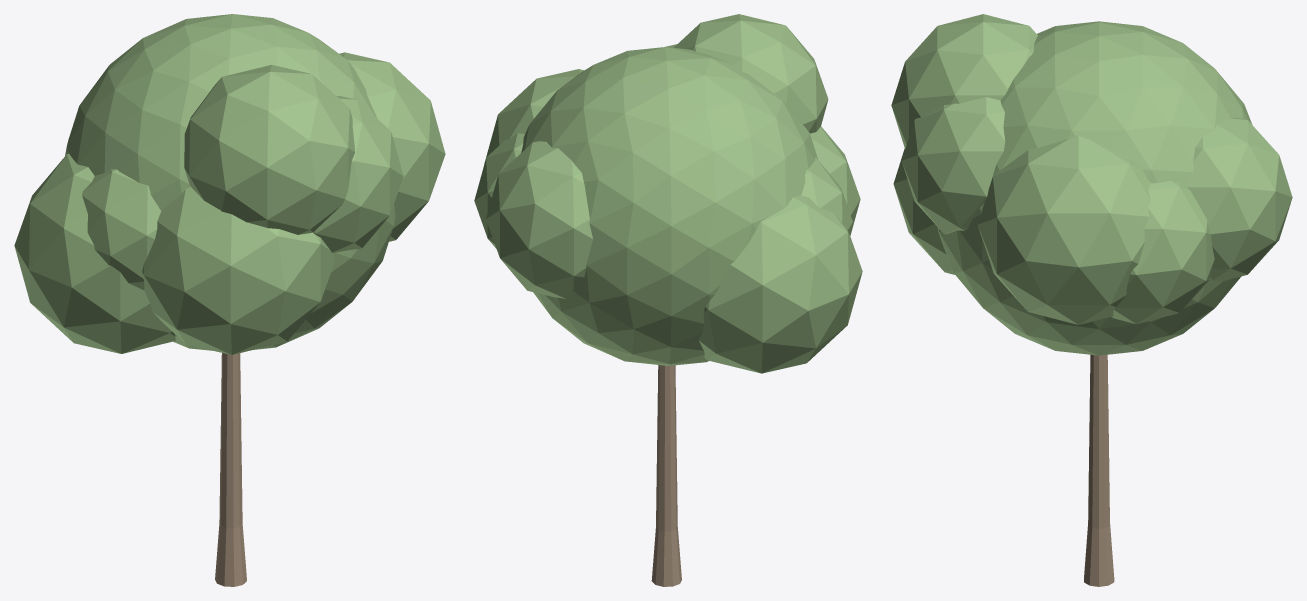
Rendered from tree.glb.
3 views of the same model, side by side, from view 1: azimuth 30°, elevation 25°; view 2: azimuth 150°, elevation 25°; view 3: azimuth 270°, elevation 25° (orthographic). The views are drawn at different scales.
Parts seen in each view (by area): view 1: tree_leaf, tree_bark; view 2: tree_leaf, tree_bark; view 3: tree_leaf, tree_bark.
Boxes of the visible parts, <box> form: tree_leaf: <box>14,14,445,354</box>; tree_bark: <box>215,353,246,586</box>; tree_leaf: <box>474,14,862,373</box>; tree_bark: <box>651,365,681,586</box>; tree_leaf: <box>891,14,1292,355</box>; tree_bark: <box>1084,354,1114,586</box>.
Size of the model in its own units: 4.99 by 6.84 by 4.53.
